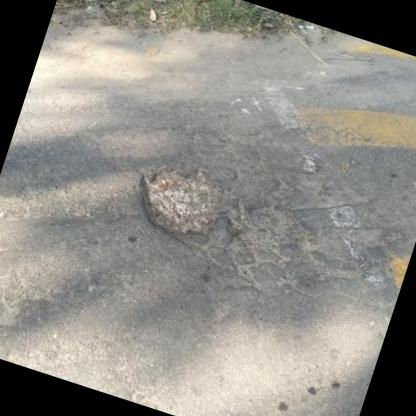pothole: (122, 152, 236, 254), (219, 190, 322, 270)
